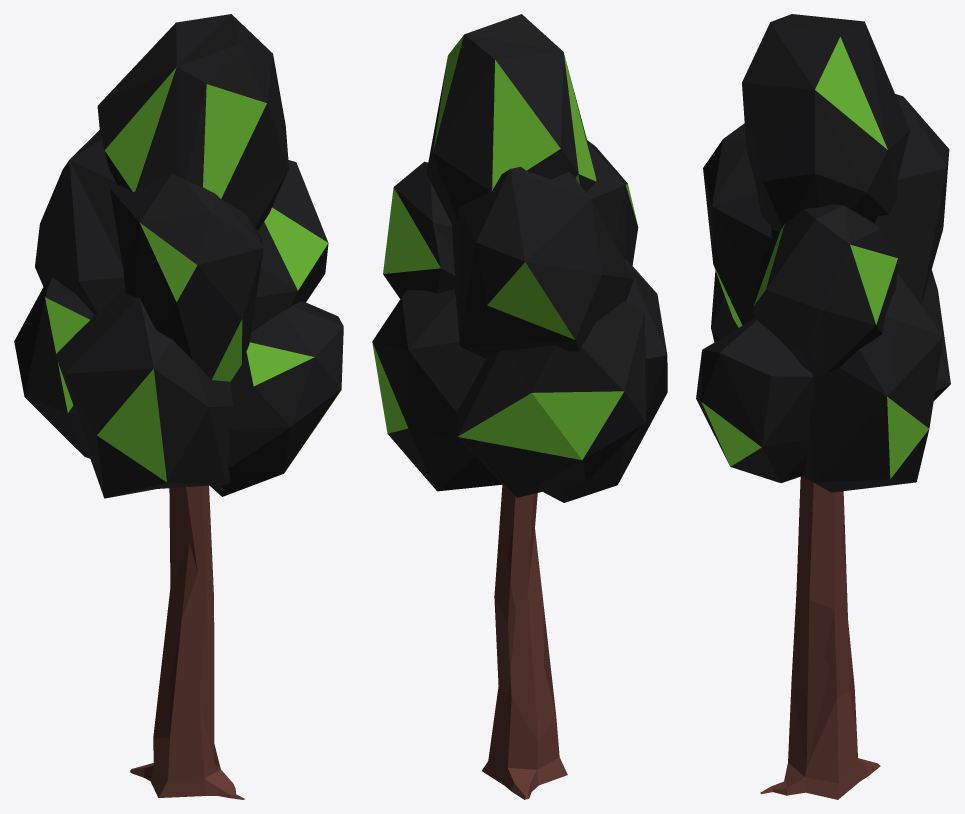
File: Poplar_medium.fbx
The picture shows the model from 3 angles, left to right: view 1: azimuth 30°, elevation 25°; view 2: azimuth 150°, elevation 25°; view 3: azimuth 270°, elevation 25°; orthographic projection. The views are drawn at different scales.
Visible parts, largest first — view 1: poplar_crown_Medium, poplar_trunk_Medium; view 2: poplar_crown_Medium, poplar_trunk_Medium; view 3: poplar_crown_Medium, poplar_trunk_Medium.
Part boxes in pixels (<box>): poplar_crown_Medium: <box>14,14,343,498</box>; poplar_trunk_Medium: <box>130,485,244,799</box>; poplar_crown_Medium: <box>372,14,667,502</box>; poplar_trunk_Medium: <box>482,484,567,799</box>; poplar_crown_Medium: <box>696,14,950,492</box>; poplar_trunk_Medium: <box>760,476,880,799</box>.
Size of the model in its own units: 90.49 by 235 by 70.31.
